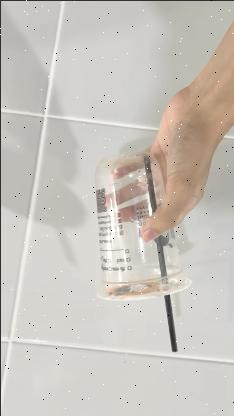Others: (90, 152, 192, 300)
